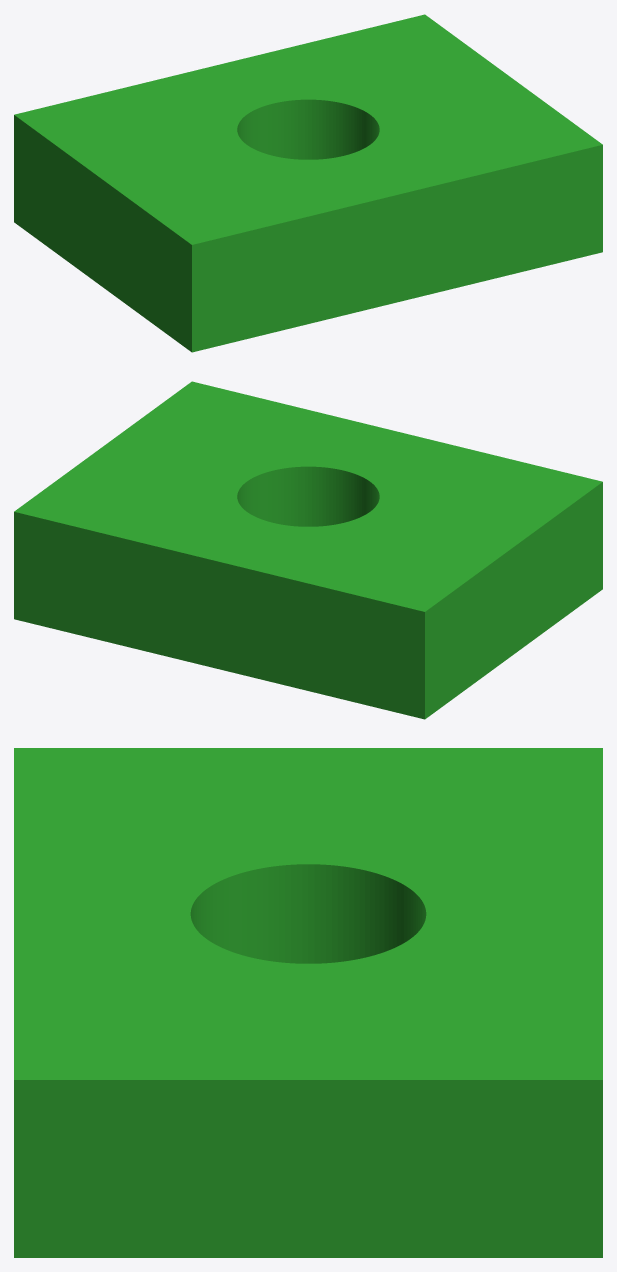
File: part-pmi.glb
The picture shows the model from 3 angles, top to bottom: view 1: azimuth 30°, elevation 25°; view 2: azimuth 150°, elevation 25°; view 3: azimuth 270°, elevation 25°; orthographic projection. The views are drawn at different scales.
Parts seen in each view (by area): view 1: Plate; view 2: Plate; view 3: Plate.
Part boxes in pixels (<box>): Plate: <box>14,14,602,352</box>; Plate: <box>14,381,602,719</box>; Plate: <box>14,748,602,1257</box>.
Size of the model in its own units: 0.04 by 0.01 by 0.03.
